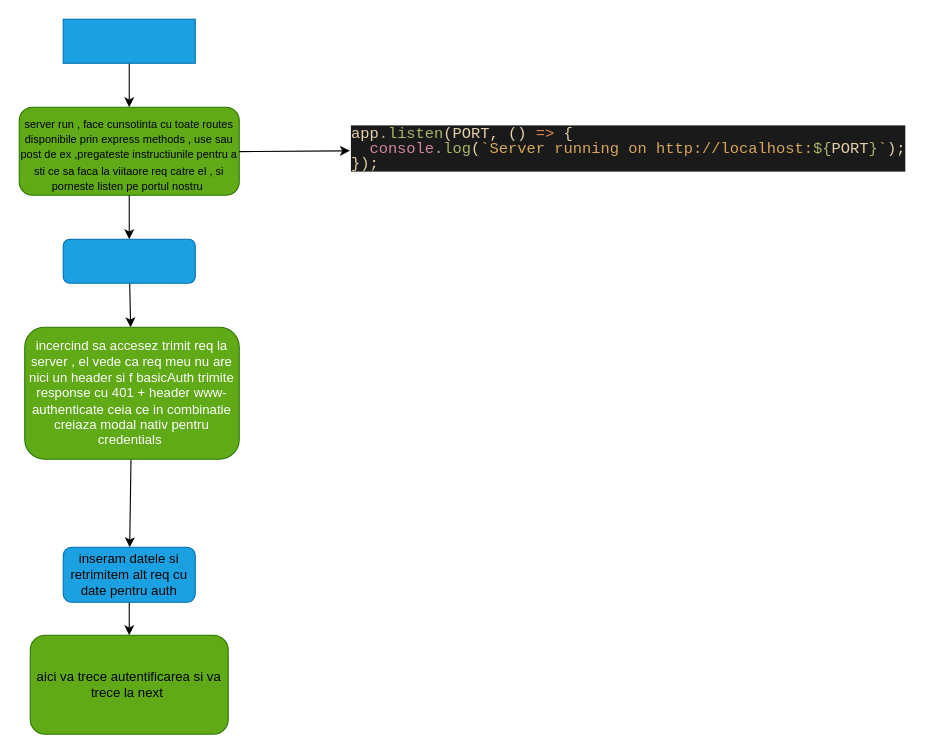
The diagram is 925 pixels wide and 754 high, and some of its shapes have lost their labels. Here are the shapes that lost their labels. From the top down, the box of each, then its label:
(62, 18, 195, 63): npm start
(62, 238, 195, 283): localhost:PORT
